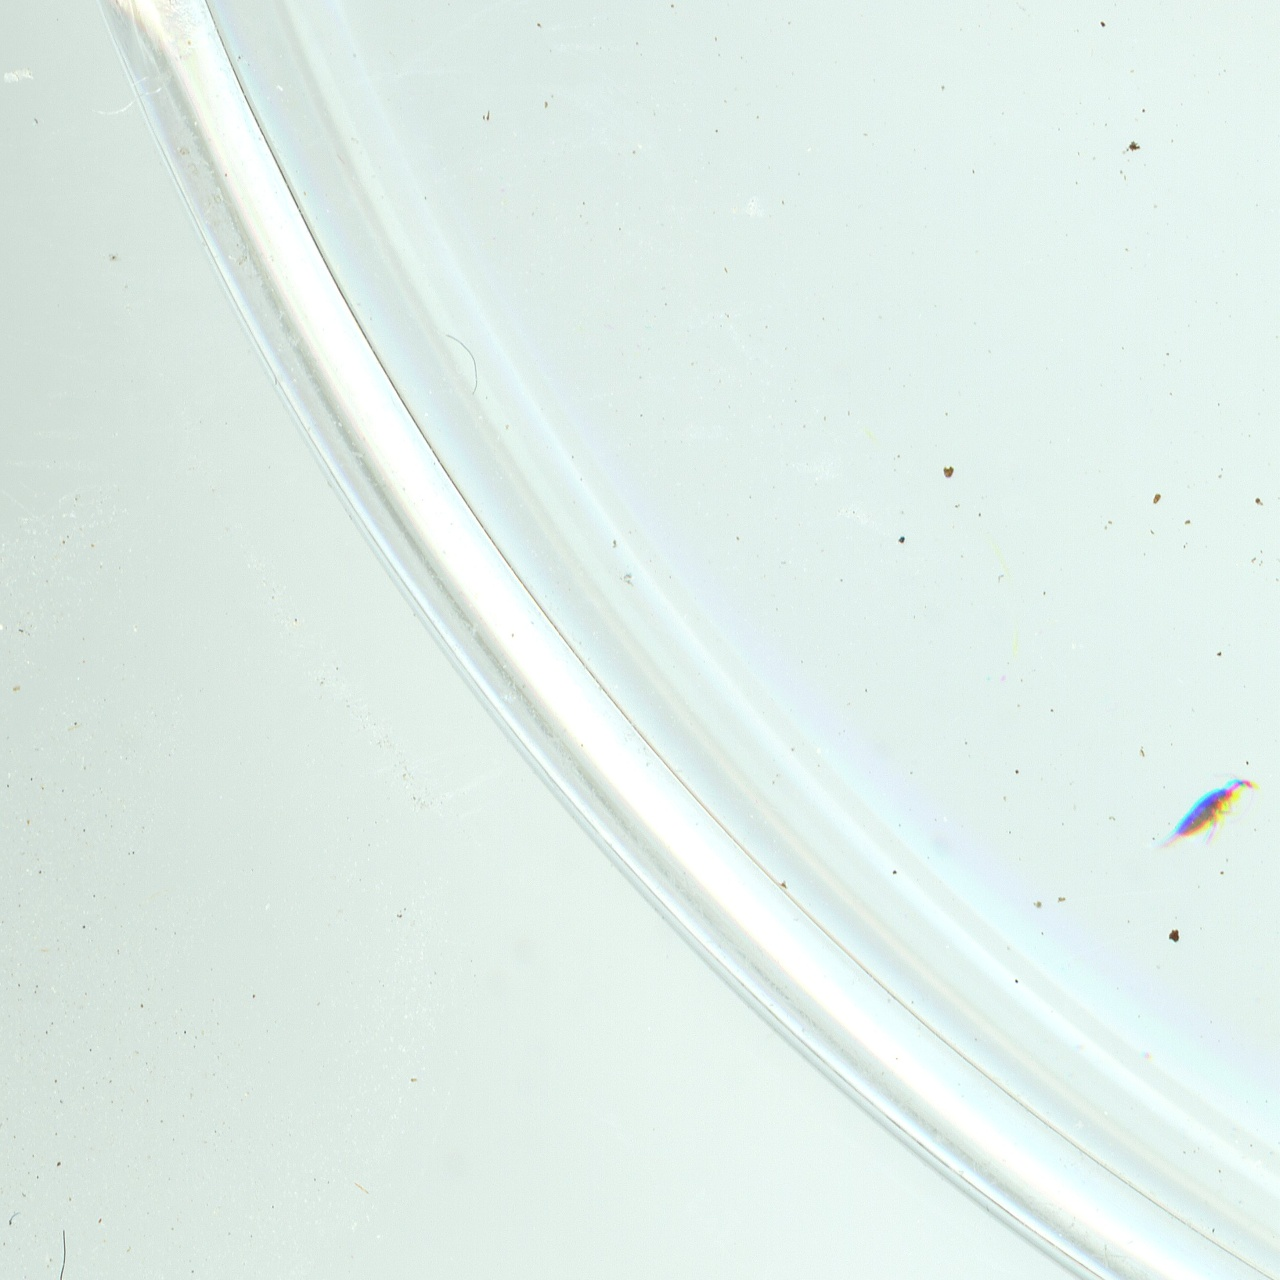arthropod: (1141, 756, 1274, 886)
